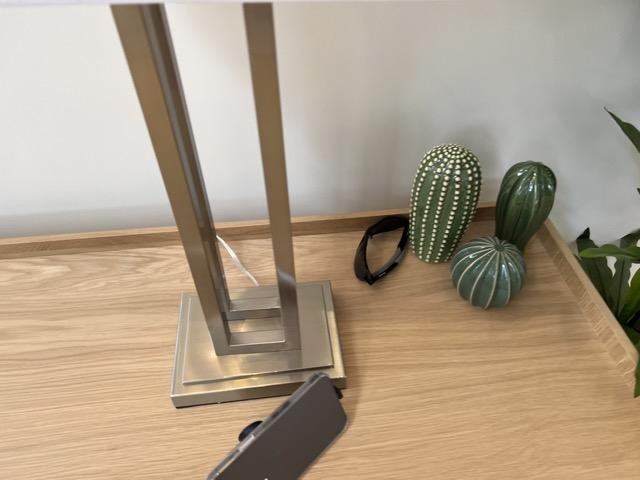Sunglasses: (355, 215, 412, 285)
